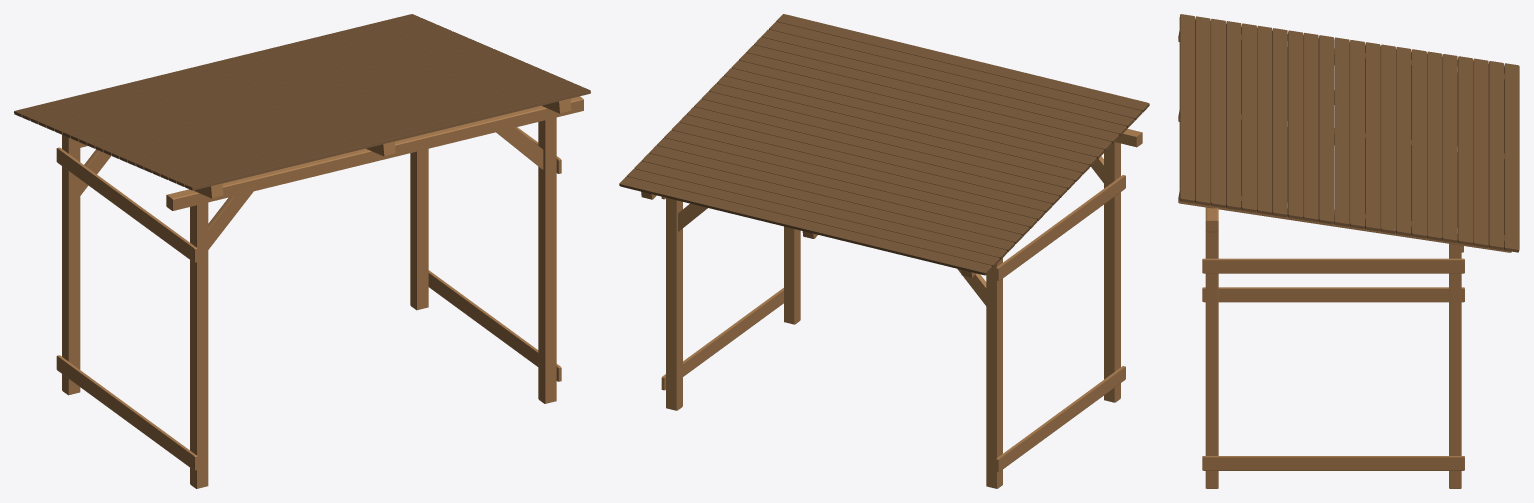
Rendered from Hay shed.fbx.
3 views of the same model, side by side, from view 1: azimuth 30°, elevation 25°; view 2: azimuth 150°, elevation 25°; view 3: azimuth 270°, elevation 25° (orthographic). The views are drawn at different scales.
Visible parts, largest first — view 1: Wooden_roof.001, Wooden_plank_hor4.001; view 2: Wooden_roof.001, Wooden_plank_hor4.001; view 3: Wooden_roof.001, Wooden_plank_hor4.001, Wooden_plank_hor1.002.
Boxes of the visible parts, left/top/right/bottom form: Wooden_roof.001: left=14, top=14, right=590, bottom=190; Wooden_plank_hor4.001: left=56, top=96, right=583, bottom=488; Wooden_roof.001: left=619, top=14, right=1149, bottom=275; Wooden_plank_hor4.001: left=641, top=128, right=1142, bottom=488; Wooden_roof.001: left=1179, top=14, right=1519, bottom=252; Wooden_plank_hor4.001: left=1178, top=31, right=1511, bottom=488; Wooden_plank_hor1.002: left=1202, top=287, right=1464, bottom=302.
Bounding box in the file's own units: 973 × 715 × 737.
